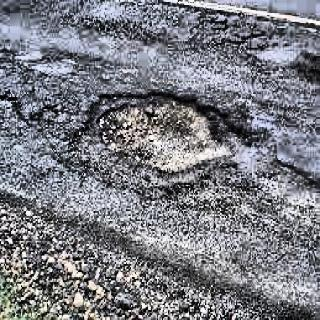pothole: (81, 88, 235, 180)
